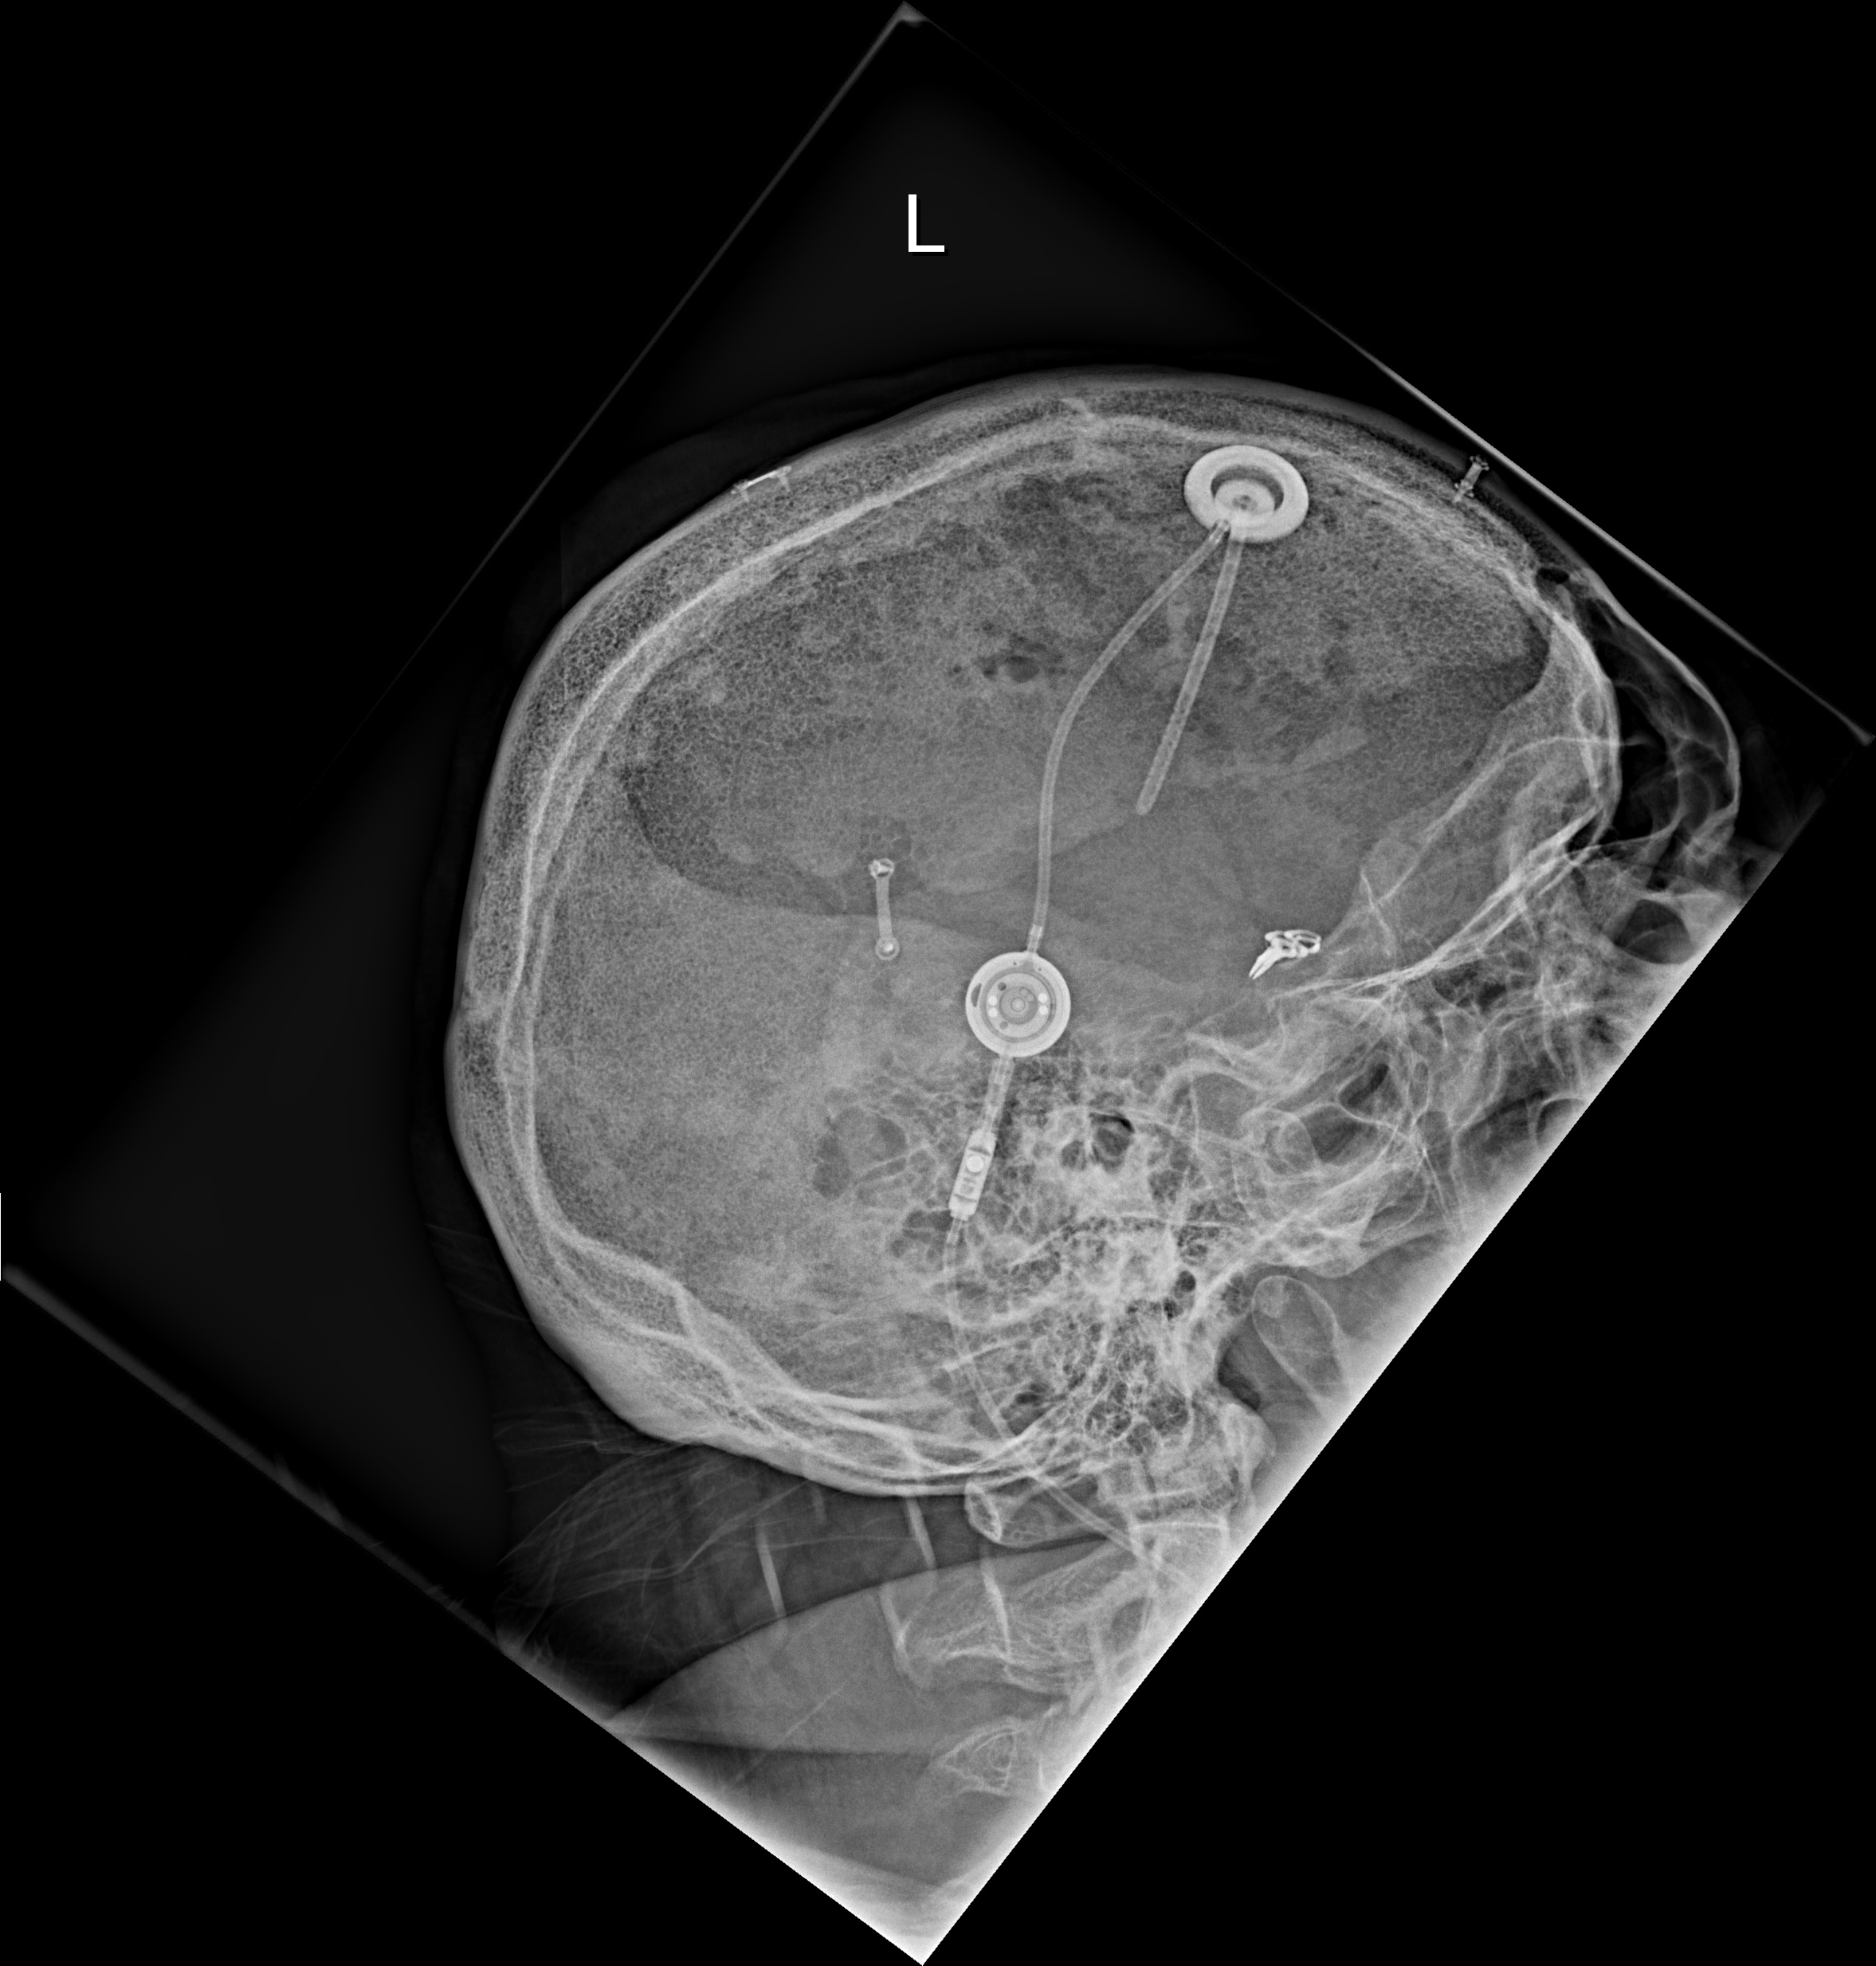proGAV 2.0: (960, 944, 1078, 1062)
proGAV Gravitationseinheit: (942, 1111, 999, 1239)
